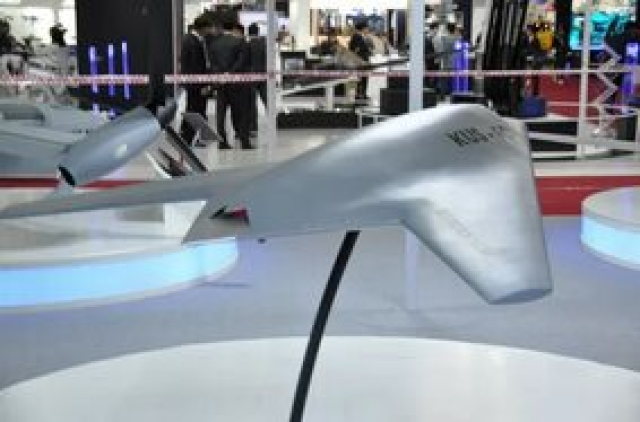military drone: (0, 102, 552, 303)
